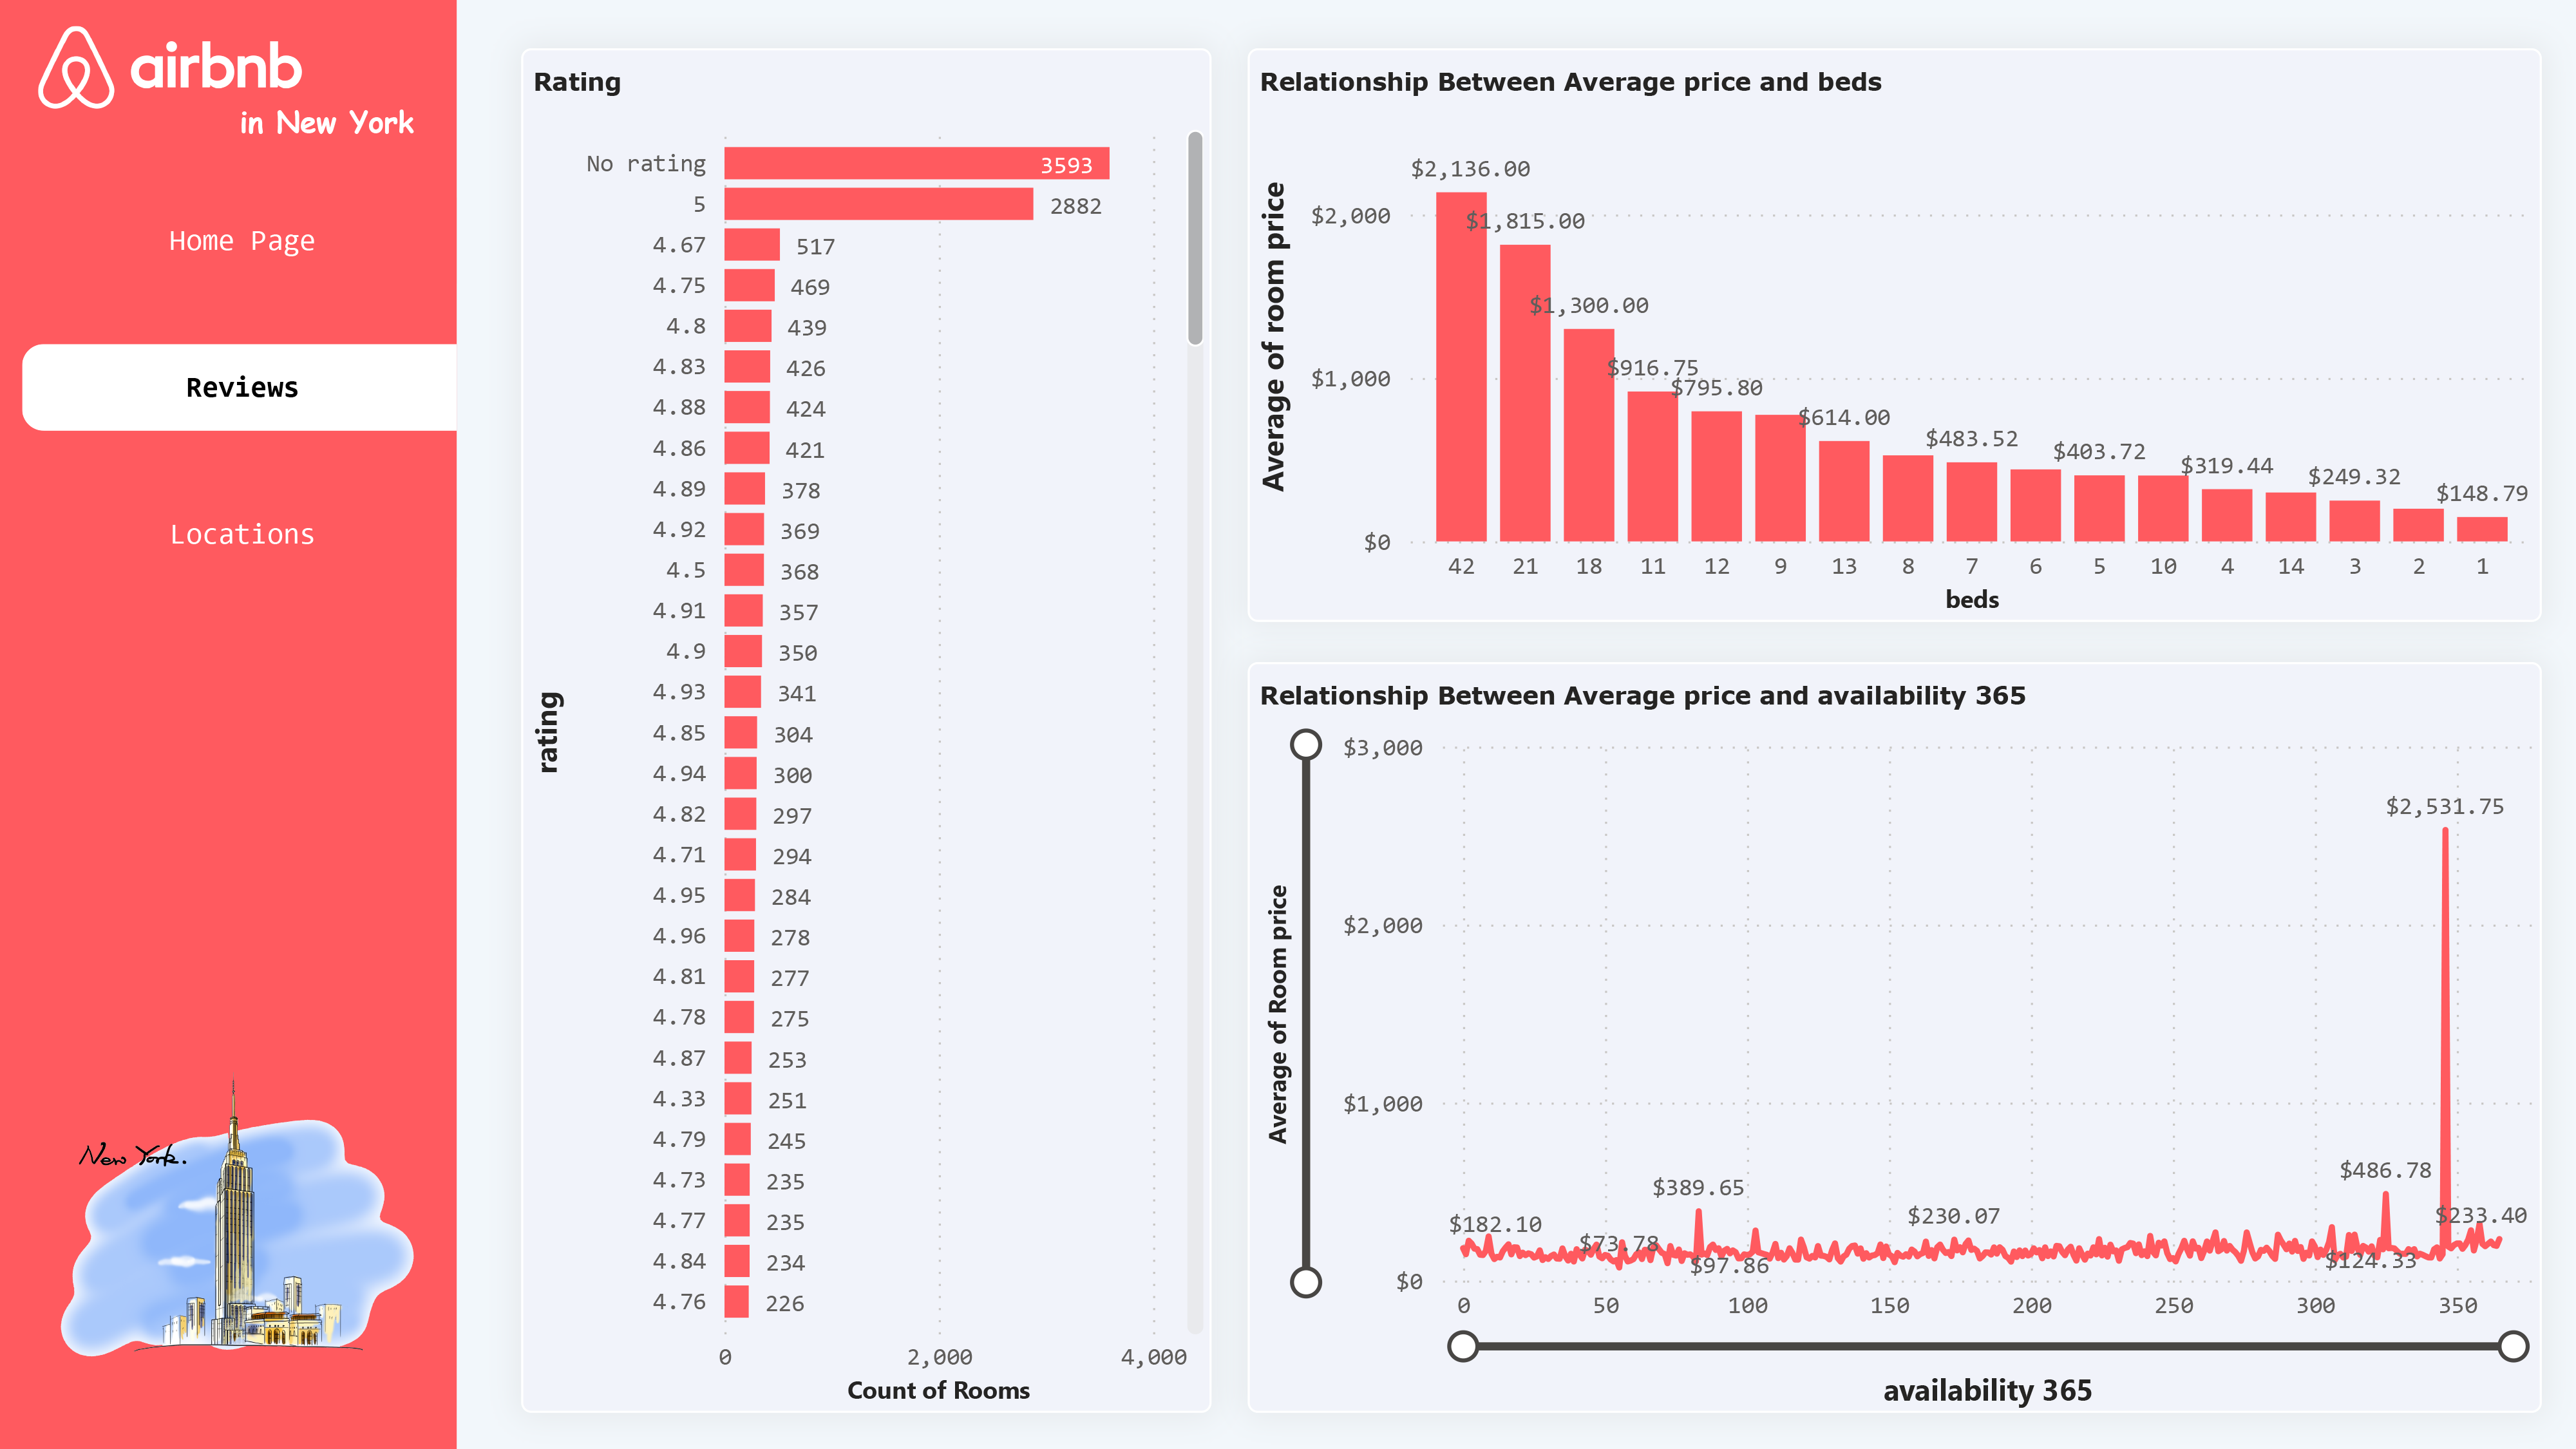

This screenshot's page, from the dashboard's own definition file:
{"tool":"powerbi","page":{"name":"Reviews","canvas":[1280,720],"ordinal":1},"visuals":[{"type":"shape","box":[0,0,227,720],"z":0,"group":"g1"},{"type":"columnChart","title":"Relationship Between Average price and beds","fields":{"Category":["rooms.beds"],"Y":["Avg(rooms.room_price)"]},"box":[619.9,23.9,642.7,285.5],"z":0},{"type":"image","box":[10.2,8,149,51.2],"z":1000,"group":"g1"},{"type":"barChart","title":"Rating","fields":{"Y":["CountNonNull(reviews.room_id)"],"Category":["reviews.rating"]},"box":[259.3,23.9,342.4,677.9],"z":1000},{"type":"pageNavigator","box":[11,98,216,190],"z":2000,"group":"g1"},{"type":"lineChart","title":"Relationship Between Average price and availability 365","fields":{"Category":["rooms.availability_365"],"Y":["Avg(rooms.room_price)"]},"box":[619.9,328.7,642.7,373.1],"z":2000},{"type":"group","id":"g1","title":"Group 3","box":[0,0,227,720],"z":3000},{"type":"image","box":[0,523,227,158],"z":6000,"group":"g1"},{"type":"textbox","box":[113.8,45,106.2,32.5],"z":9003,"group":"g1"}]}

Visuals, with their boxes in screenshot pixels (x1, y1, x2, y2), scaled from the page's 1280x720 canvas onto the 2576x1449 screenshot:
shape: bbox=(0, 0, 457, 1448)
"Relationship Between Average price and beds" columnChart: bbox=(1247, 48, 2541, 623)
image: bbox=(21, 16, 320, 119)
"Rating" barChart: bbox=(522, 48, 1211, 1412)
pageNavigator: bbox=(22, 197, 457, 580)
"Relationship Between Average price and availability 365" lineChart: bbox=(1247, 661, 2541, 1412)
"Group 3" group: bbox=(0, 0, 457, 1448)
image: bbox=(0, 1052, 457, 1370)
textbox: bbox=(229, 91, 443, 156)
